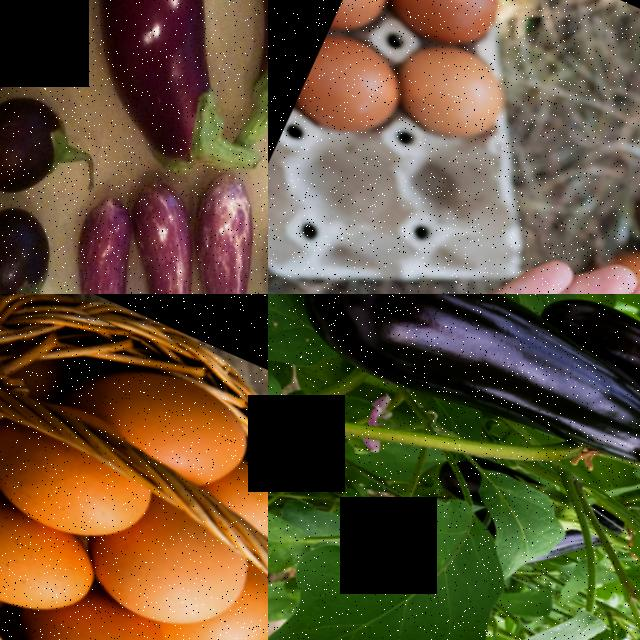egg_: (69, 341, 266, 482), (78, 493, 260, 640), (0, 416, 159, 556), (389, 31, 523, 153), (290, 29, 418, 153), (0, 489, 110, 628), (34, 587, 195, 640), (378, 0, 519, 56)
eggplant: (273, 294, 640, 506), (34, 0, 268, 180), (38, 189, 177, 294), (169, 163, 268, 294), (0, 81, 90, 211), (543, 294, 640, 413), (0, 189, 83, 294), (0, 0, 52, 130)
